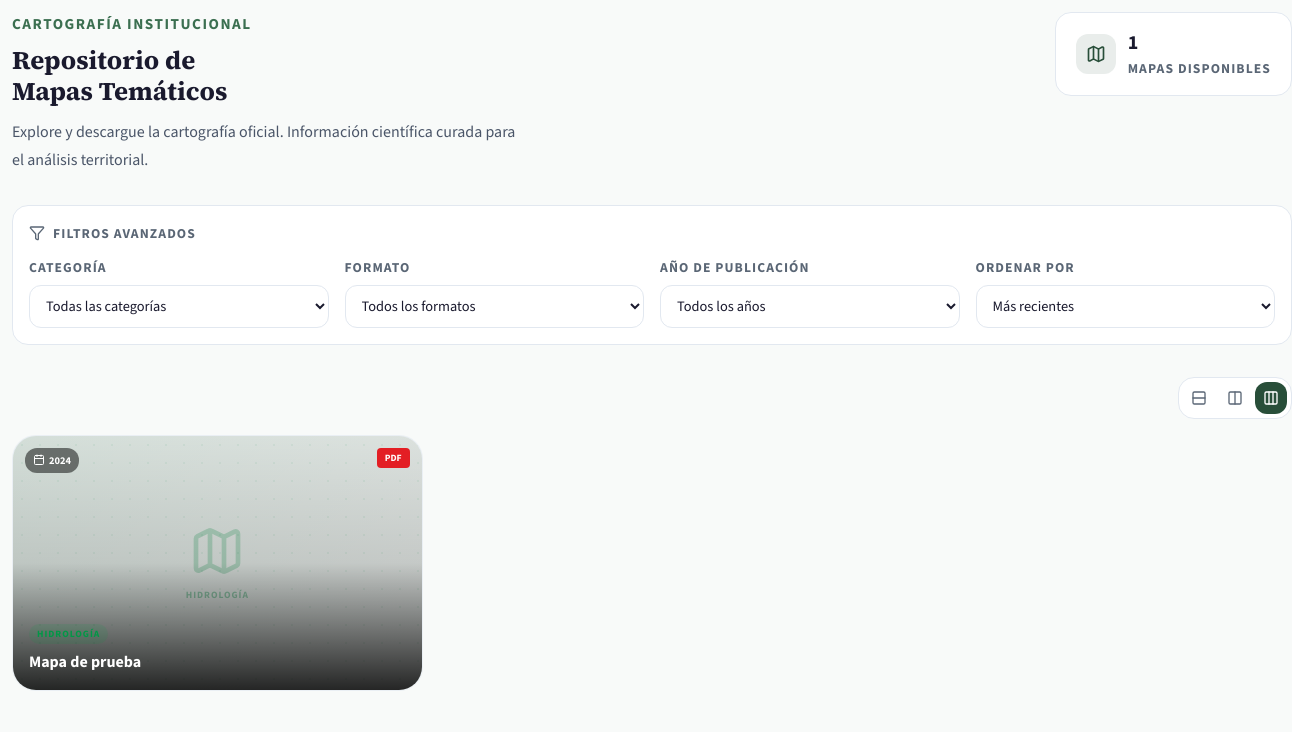
it: Mapas — filtros de categoría y año, chips › quitar un chip individual restablece solo ese filtro
Select "2024" in the dropdown below "Año de Publicación" at {"x": 810, "y": 306}, box [660, 285, 960, 328]
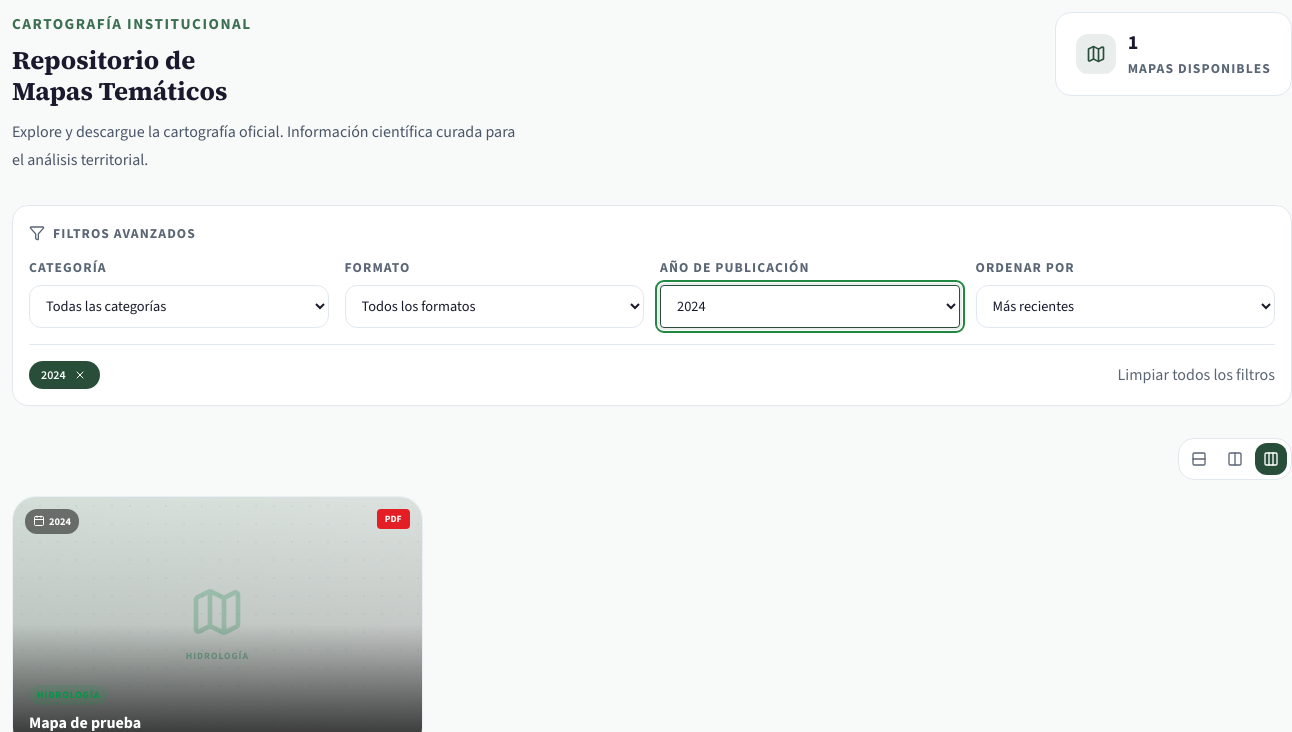
expect the button "Limpiar todos los filtros" is shown: met, box [1118, 363, 1275, 387]
Click the 1st button at {"x": 80, "y": 375}, box [72, 367, 88, 383]
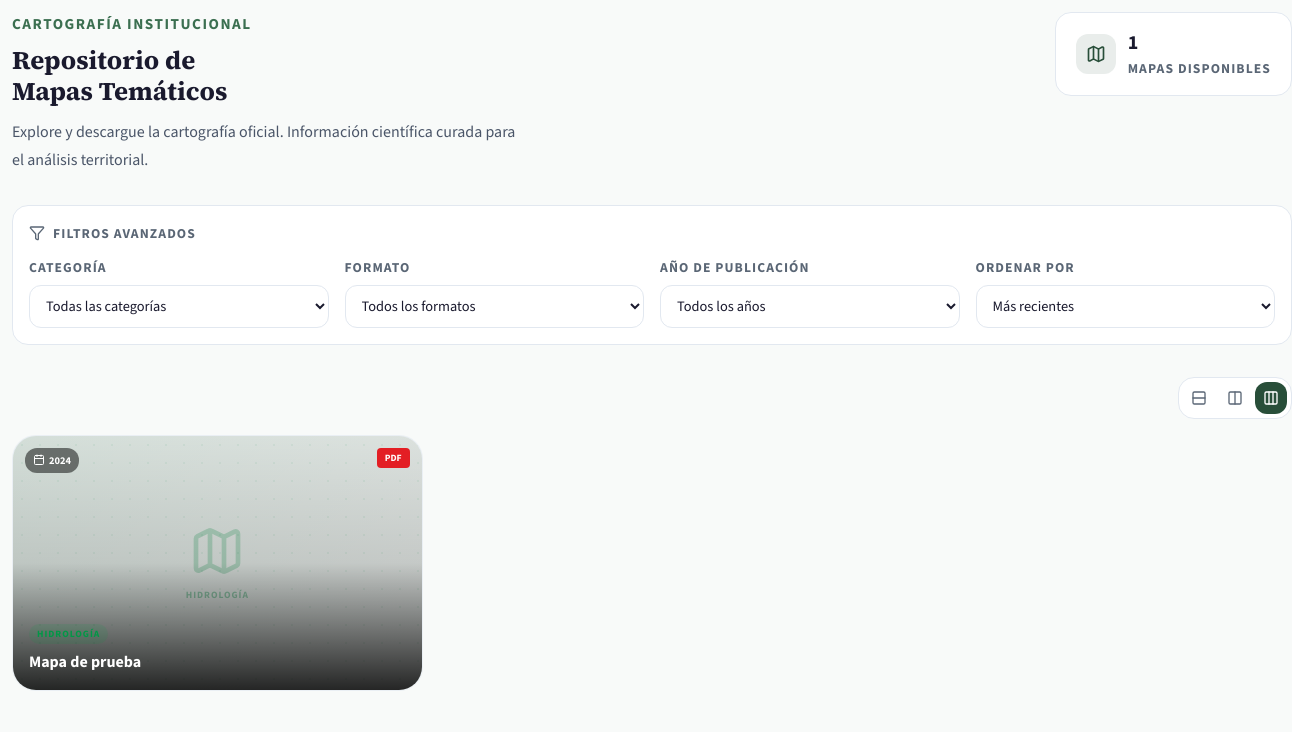
expect the button "Limpiar todos los filtros" is gone: met
